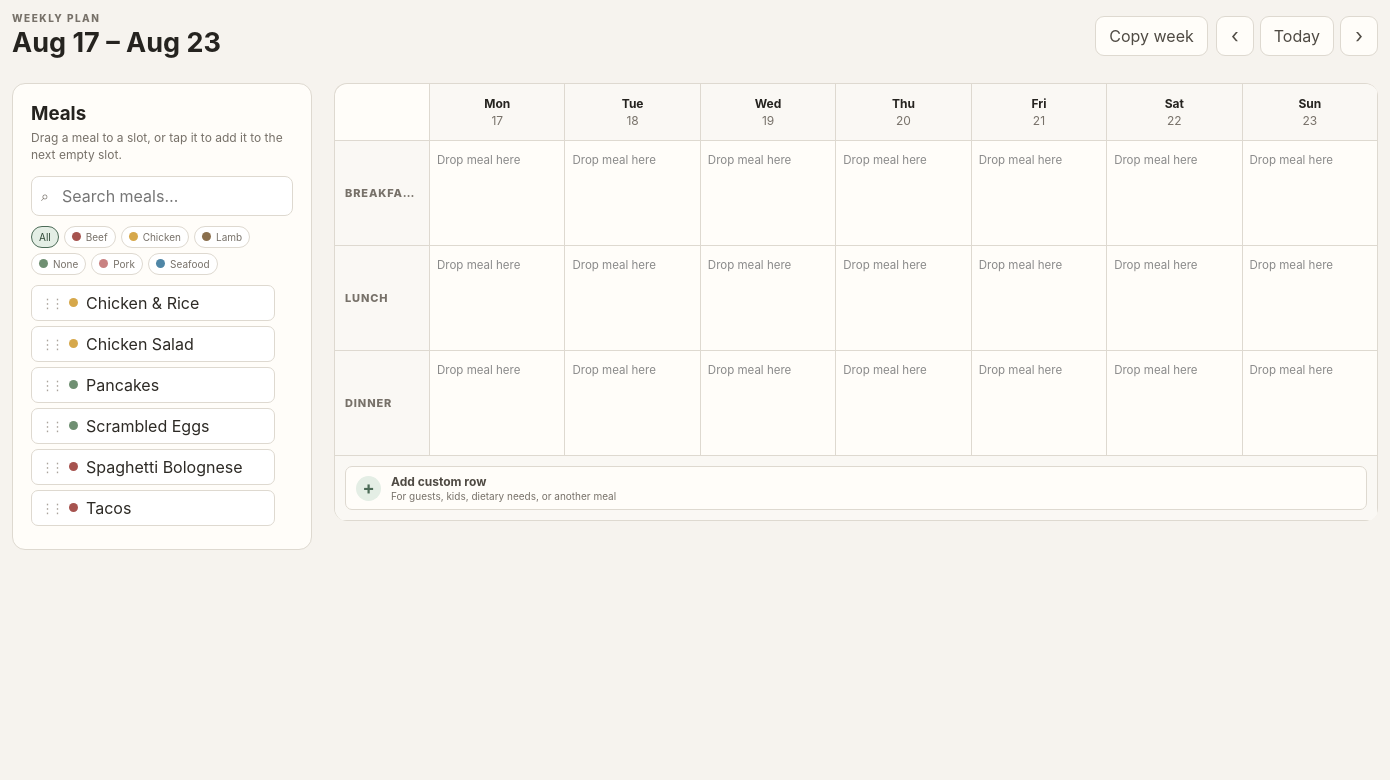
Test: PlannerView › shows a useful empty result for unmatched searches
The image size is (1390, 780).
Type "no such meal" into the search field labelled "Search meals".
click(162, 196); type("no such meal")  # box [31,176,293,216]
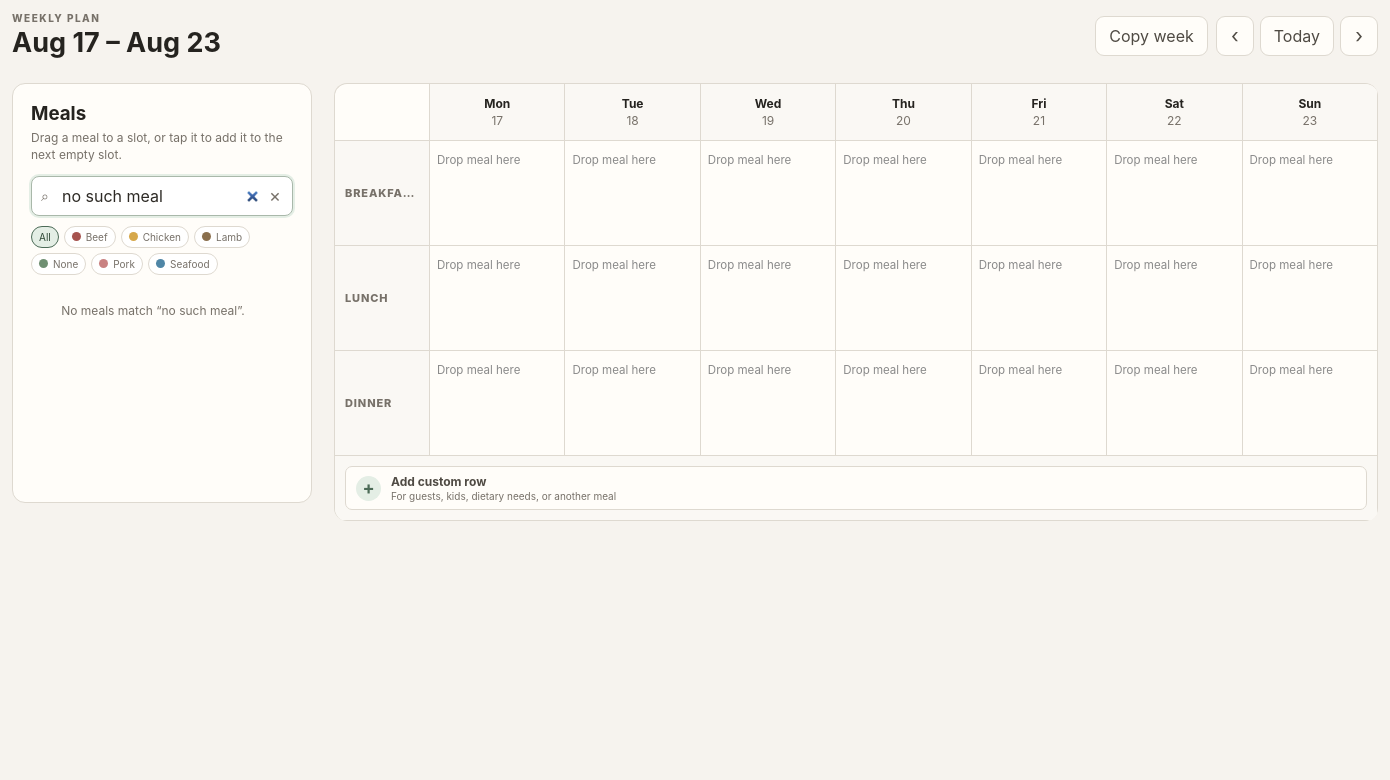
expect the text "No meals match “no such meal”." is shown: met, box [61,303,245,318]
